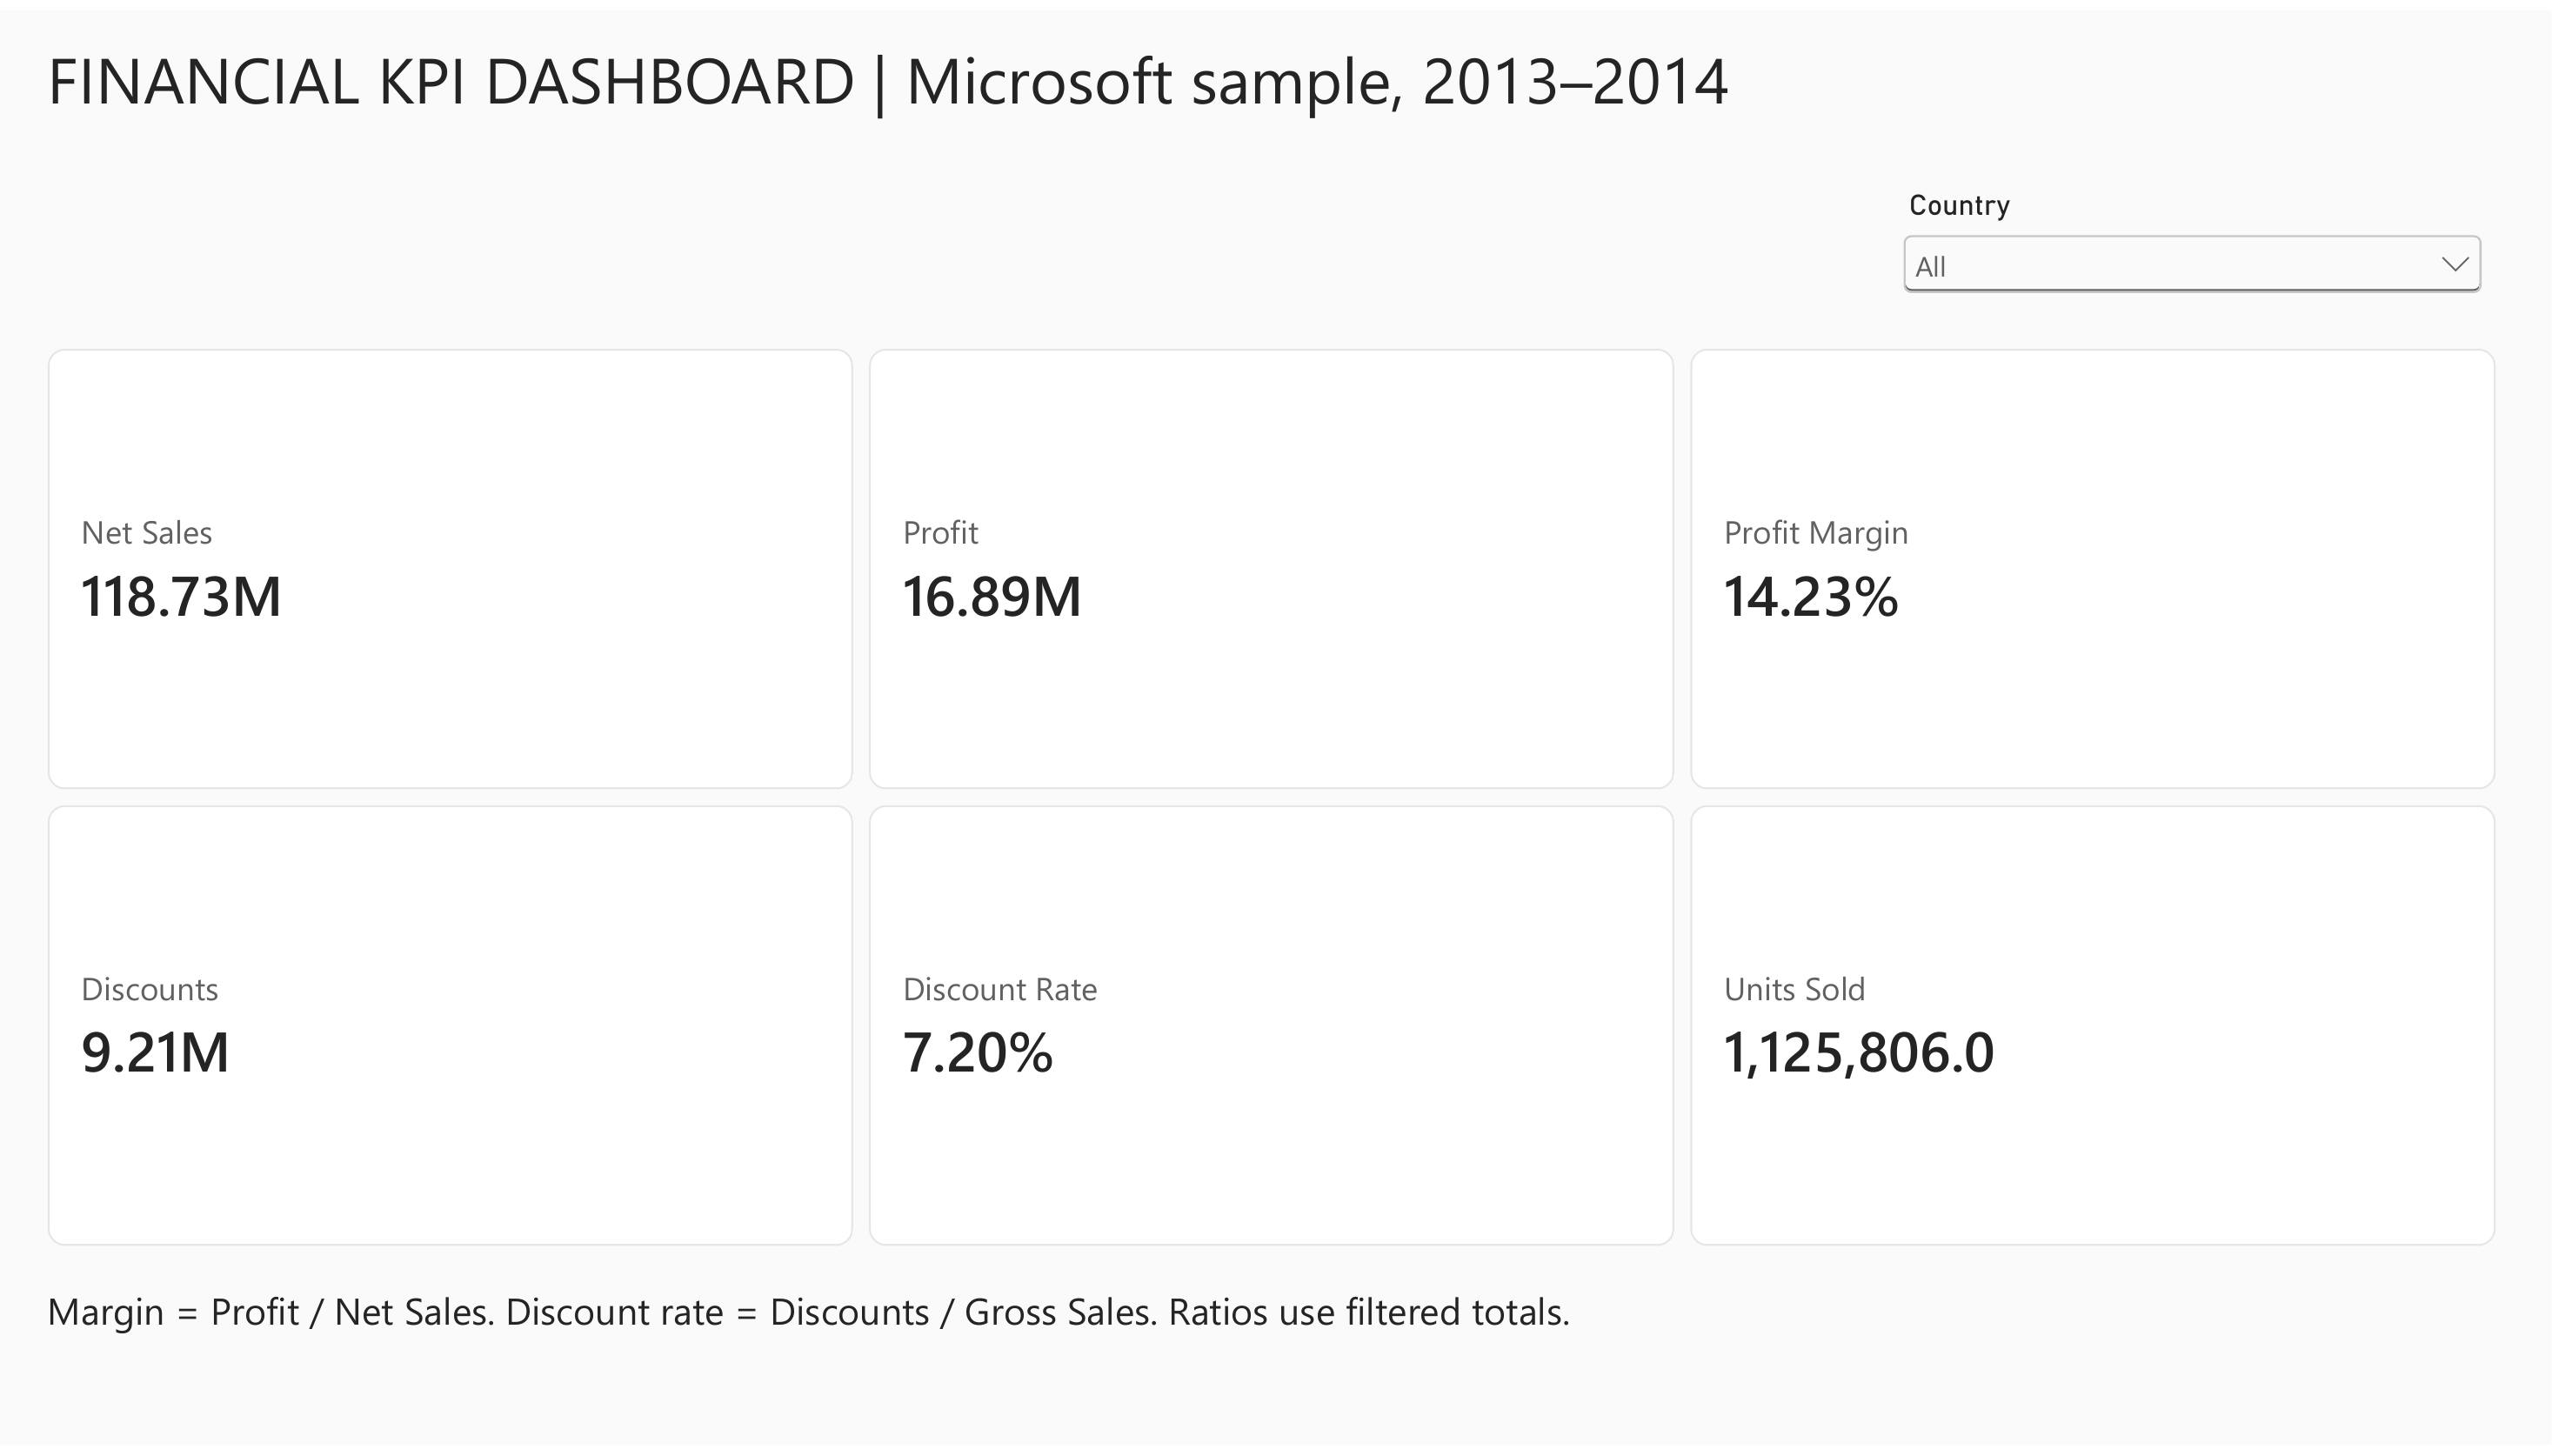

Layout of this report page (visuals, bound fields, positions):
{"tool":"powerbi","page":{"name":"04 KPI Dashboard","canvas":[1280,720],"ordinal":3},"visuals":[{"type":"cardVisual","fields":{"Data":["Sum(financials.Sales)","Sum(financials.Profit)","financials.Profit Margin","Sum(financials.Discounts)","financials.Discount Rate","Sum(financials.Units Sold)"]},"box":[24,170,1230,450],"z":0},{"type":"textbox","box":[24,12,1230,72],"z":1},{"type":"slicer","fields":{"Values":["financials.Country"]},"box":[950,90,300,60],"z":2},{"type":"textbox","box":[24,640,1180,50],"z":3}]}

Visuals, with their boxes in screenshot pixels (x1, y1, x2, y2), scaled from the page's 1280x720 canvas onto the 2552x1456 screenshot:
cardVisual - Sum(financials.Sales) x Sum(financials.Profit): <region>48, 344, 2500, 1254</region>
textbox: <region>48, 24, 2500, 170</region>
slicer - financials.Country: <region>1894, 182, 2492, 304</region>
textbox: <region>48, 1294, 2401, 1395</region>
